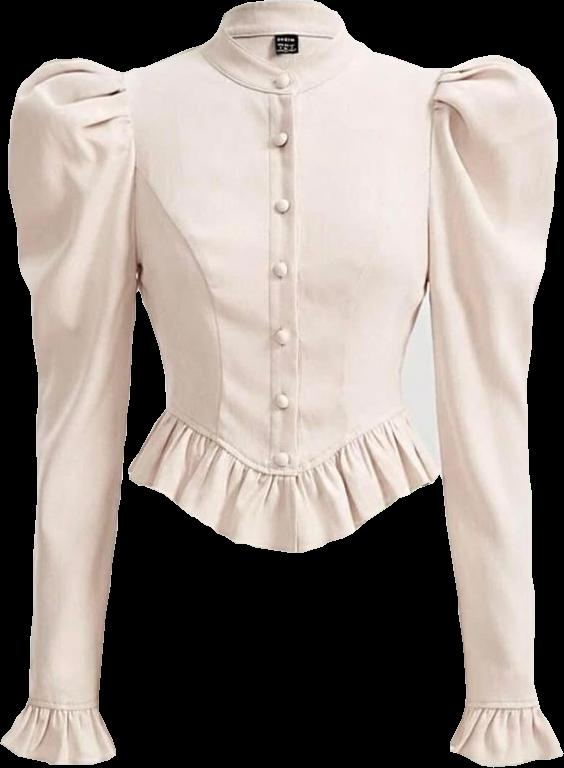Bodice: (121, 0, 447, 552)
Neckline: (161, 405, 407, 480), (193, 44, 367, 99), (217, 16, 347, 63)
Sleeve: (0, 59, 136, 764), (428, 55, 562, 766)
Sleeveline: (115, 71, 143, 284), (427, 69, 452, 269), (27, 696, 101, 715), (463, 696, 540, 711)
Waistline: (125, 469, 443, 558)
